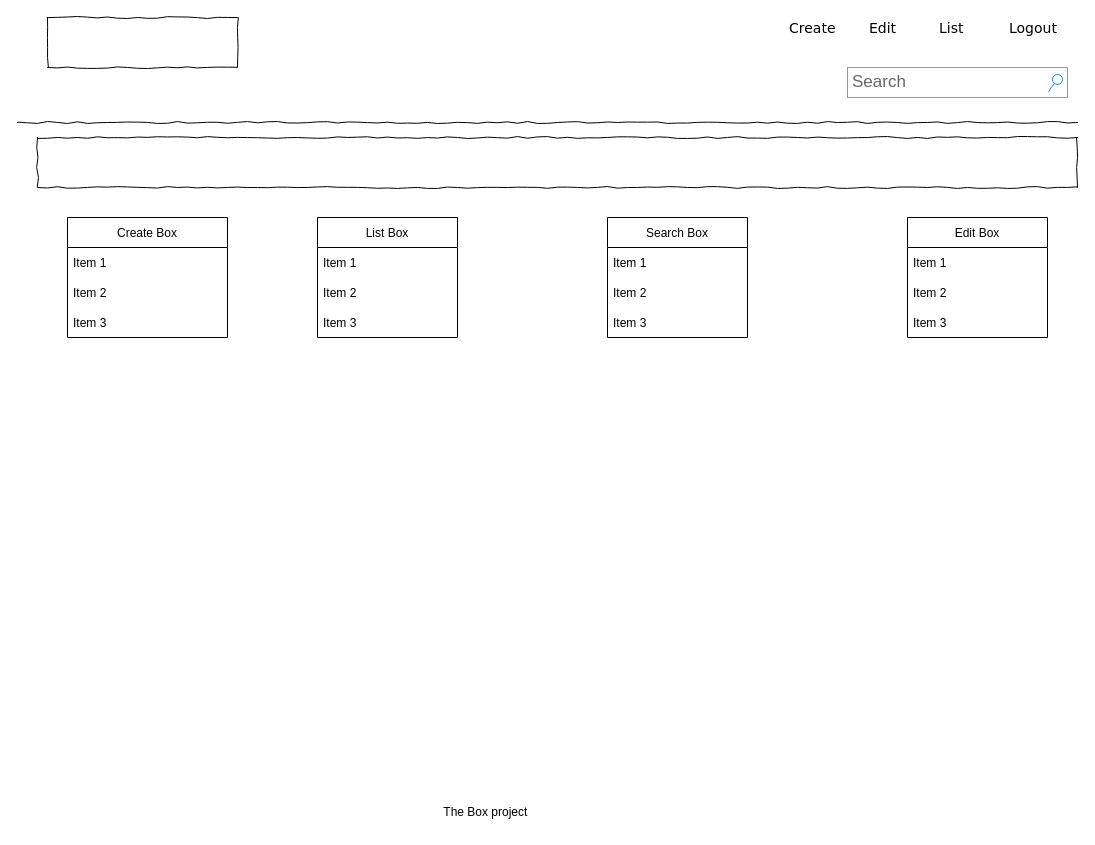
Some shapes in this 1095 by 845 pixel diagram are drawn without their labels. Here are the shapes that lost their labels. From the top down, the centre of each, then its label:
point 142,42: T.B.P.
point 557,162: Welcome User, you have N total boxes in L different locations
